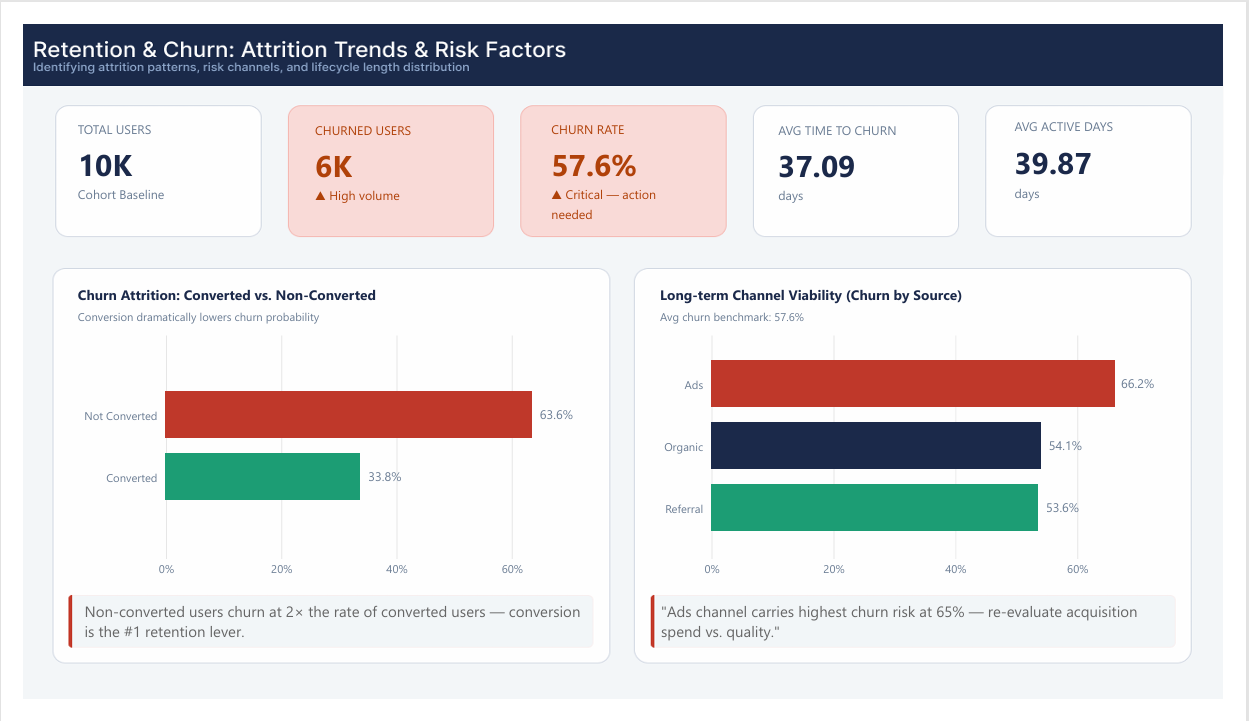

This screenshot's page, from the dashboard's own definition file:
{"tool":"powerbi","page":{"name":"Retention & Churn","canvas":[1280,720],"ordinal":3},"visuals":[{"type":"clusteredBarChart","title":"Churn Attrition: Converted vs. Non-Converted","fields":{"Category":["Conversion_Status_Table.Conversion Status"],"Y":["Conversion_Status_Table.Churn Rate Display"]},"box":[53.4,278.5,549.7,320.3],"z":0},{"type":"clusteredBarChart","title":"Long-term Channel Viability (Churn by Source)","fields":{"Y":["saas_funnel_cleaned.Churn Rate"],"Category":["saas_funnel_cleaned.acquisition_channel"]},"box":[673.8,278.5,549.7,320.3],"z":1000},{"type":"cardVisual","title":"TOTAL USERS","fields":{"Data":["saas_funnel_cleaned.Total Users"]},"box":[53.4,98.1,160.1,119.7],"z":2000},{"type":"cardVisual","title":"CHURNED USERS","fields":{"Data":["saas_funnel_cleaned.Churned Users"]},"box":[305.5,98.8,160.1,119.7],"z":3000},{"type":"cardVisual","title":"CHURN RATE","fields":{"Data":["saas_funnel_cleaned.Churn Rate"]},"box":[557.7,98.5,150,119.7],"z":4000},{"type":"cardVisual","title":"AVG TIME TO CHURN","fields":{"Data":["saas_funnel_cleaned.Avg Time to Churn"]},"box":[799.6,99.2,160.1,119.7],"z":5000},{"type":"cardVisual","title":"AVG ACTIVE DAYS","fields":{"Data":["saas_funnel_cleaned.Avg Active Days"]},"box":[1051.8,99.6,160.1,119.7],"z":6000},{"type":"textbox","box":[60,610.3,549.7,64.9],"z":7000},{"type":"textbox","box":[675.2,610.3,548.2,54.8],"z":8000}]}

Visuals, with their boxes in screenshot pixels (x1, y1, x2, y2), scaled from the page's 1280x720 canvas onto the 1249x721 screenshot:
"Churn Attrition: Converted vs. Non-Converted" clusteredBarChart: (x1=52, y1=279, x2=588, y2=600)
"Long-term Channel Viability (Churn by Source)" clusteredBarChart: (x1=657, y1=279, x2=1194, y2=600)
"TOTAL USERS" cardVisual: (x1=52, y1=98, x2=208, y2=218)
"CHURNED USERS" cardVisual: (x1=298, y1=99, x2=454, y2=219)
"CHURN RATE" cardVisual: (x1=544, y1=99, x2=691, y2=219)
"AVG TIME TO CHURN" cardVisual: (x1=780, y1=99, x2=936, y2=219)
"AVG ACTIVE DAYS" cardVisual: (x1=1026, y1=100, x2=1183, y2=220)
textbox: (x1=59, y1=611, x2=595, y2=676)
textbox: (x1=659, y1=611, x2=1194, y2=666)
